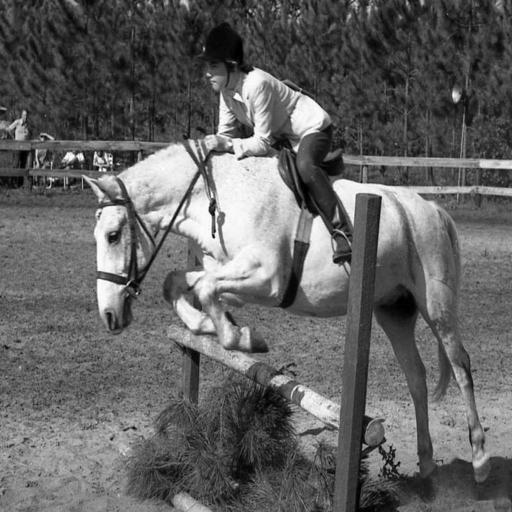Horse: (82, 138, 493, 506)
